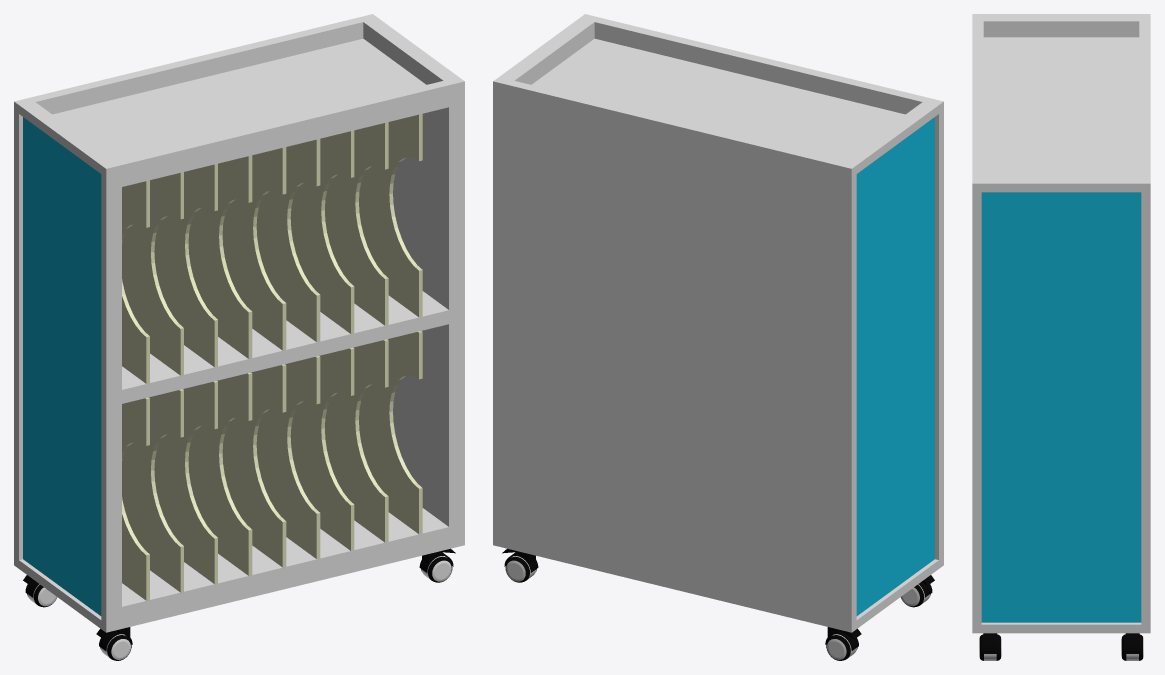
3 renders of one model, left to right at view 1: azimuth 30°, elevation 25°; view 2: azimuth 150°, elevation 25°; view 3: azimuth 270°, elevation 25°, orthographic. The views are drawn at different scales.
Parts seen in each view (by area): view 1: MA-45; view 2: MA-45; view 3: MA-45.
Part boxes in pixels (x1,y1,x2,y2): MA-45: (14, 14, 464, 660); MA-45: (493, 14, 943, 660); MA-45: (972, 14, 1150, 660).
Bounding box in the file's own units: 90 × 120 × 40.
